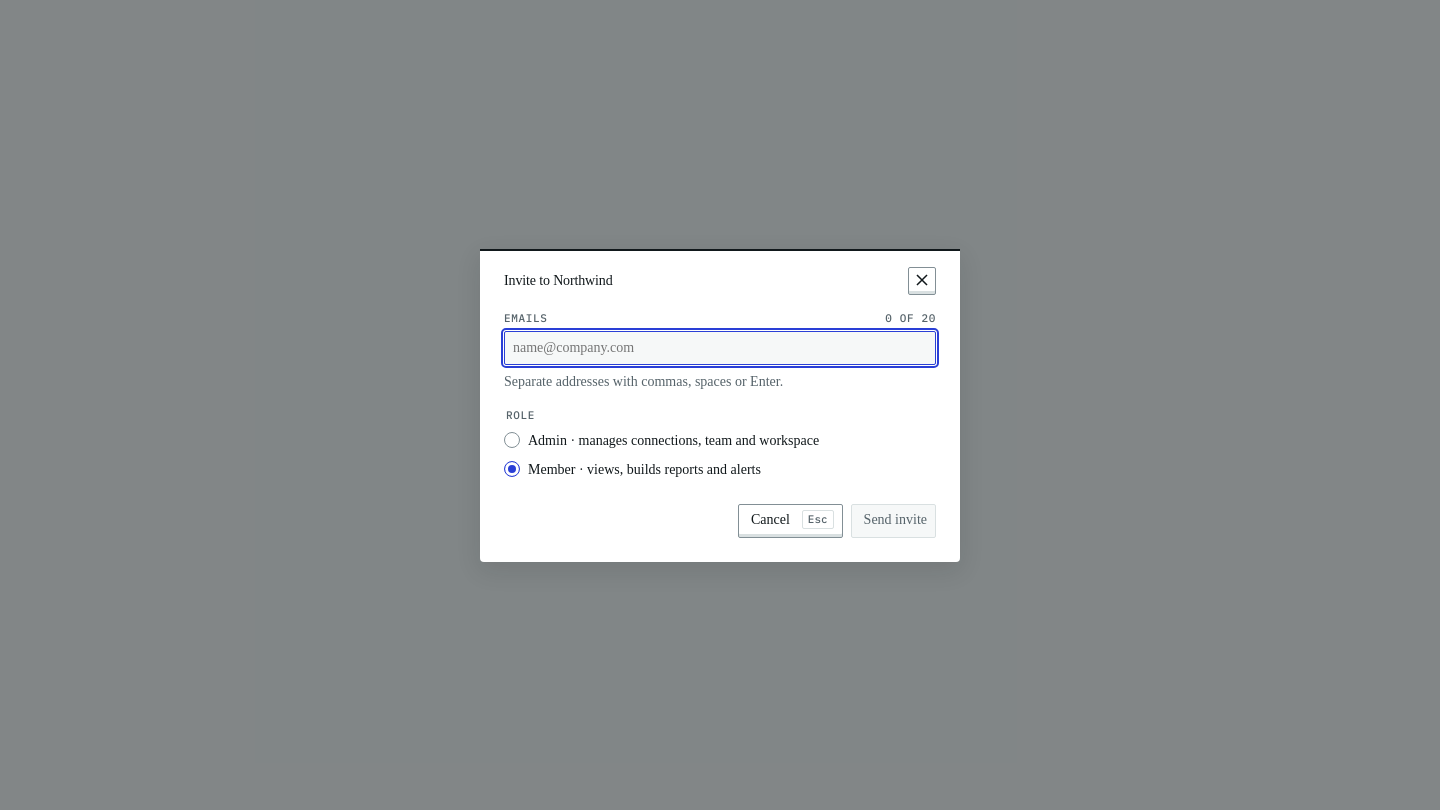
InviteDialog › turns typed addresses into tokens and flags the ones it can't invite
This screenshot has width=1440, height=810.
Type "sam@northwind.co, bad@x" into the field labelled "Emails" at (720, 348), box [511,336,929,360]
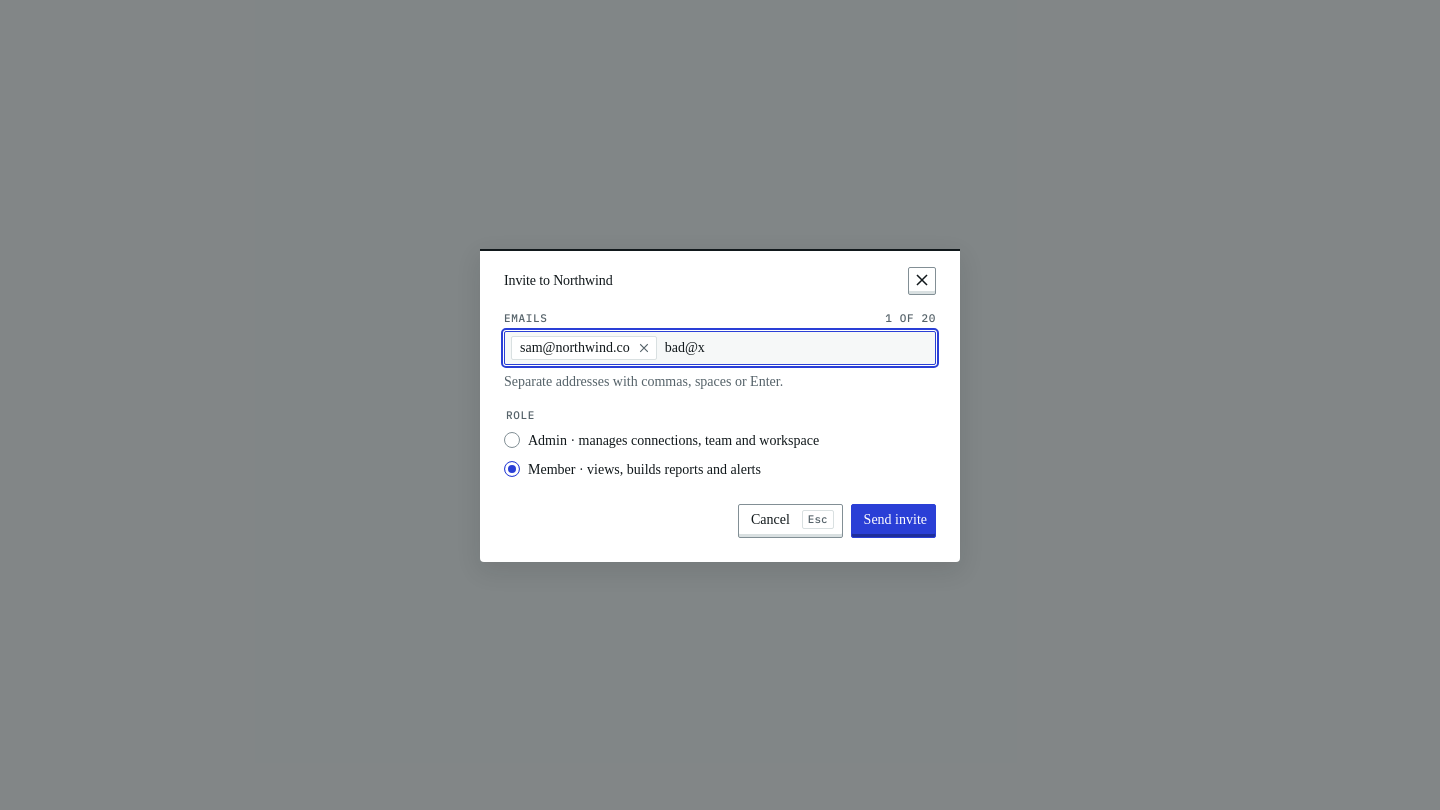
Press Enter in the field labelled "Emails", box [663,336,929,360]
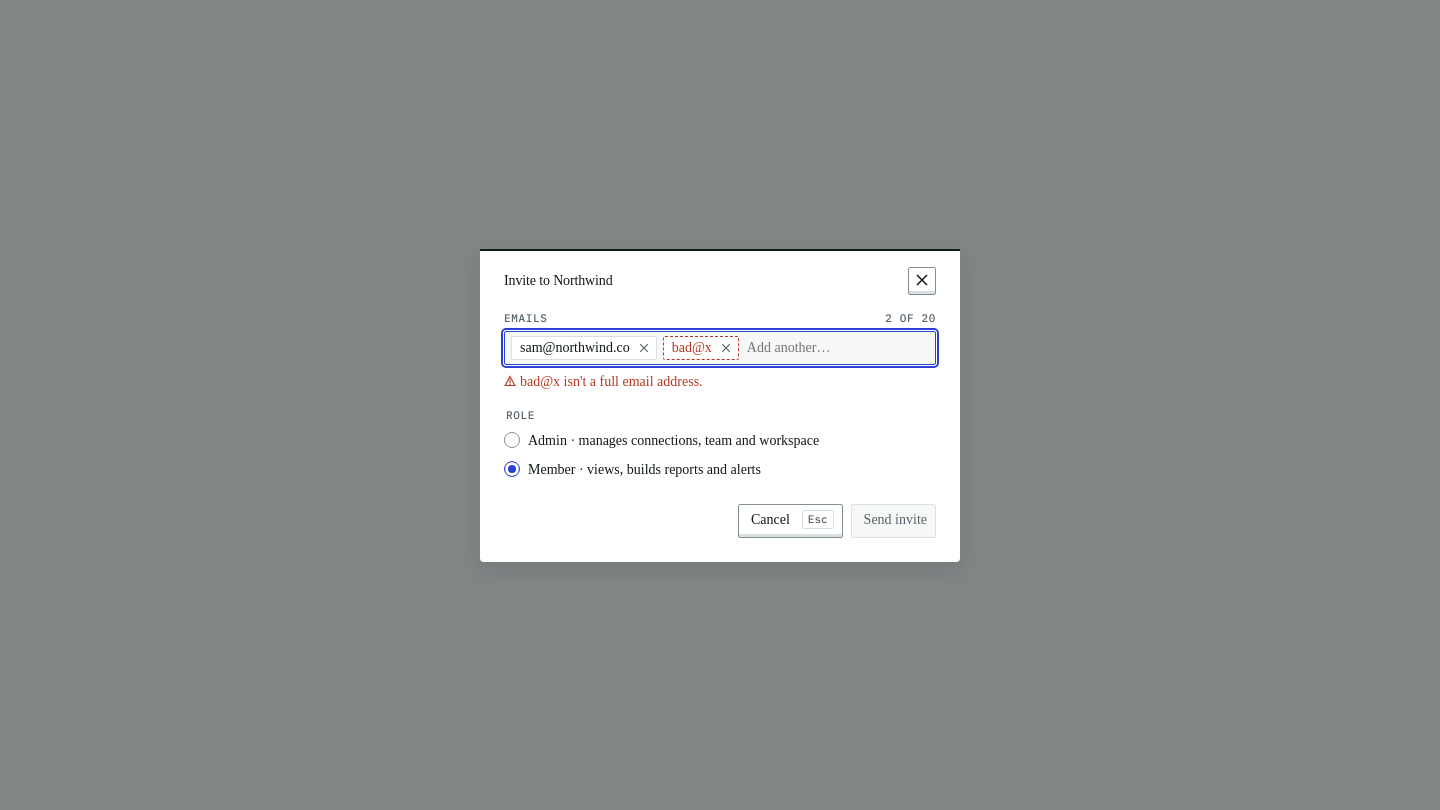
Expected: the text "sam@northwind.co" is shown, [511,336,657,360]
Expected: the text "bad@x isn't a full email address." is shown, [504,374,703,388]
Expected: the button "Send invite" is disabled, [851,504,936,538]
